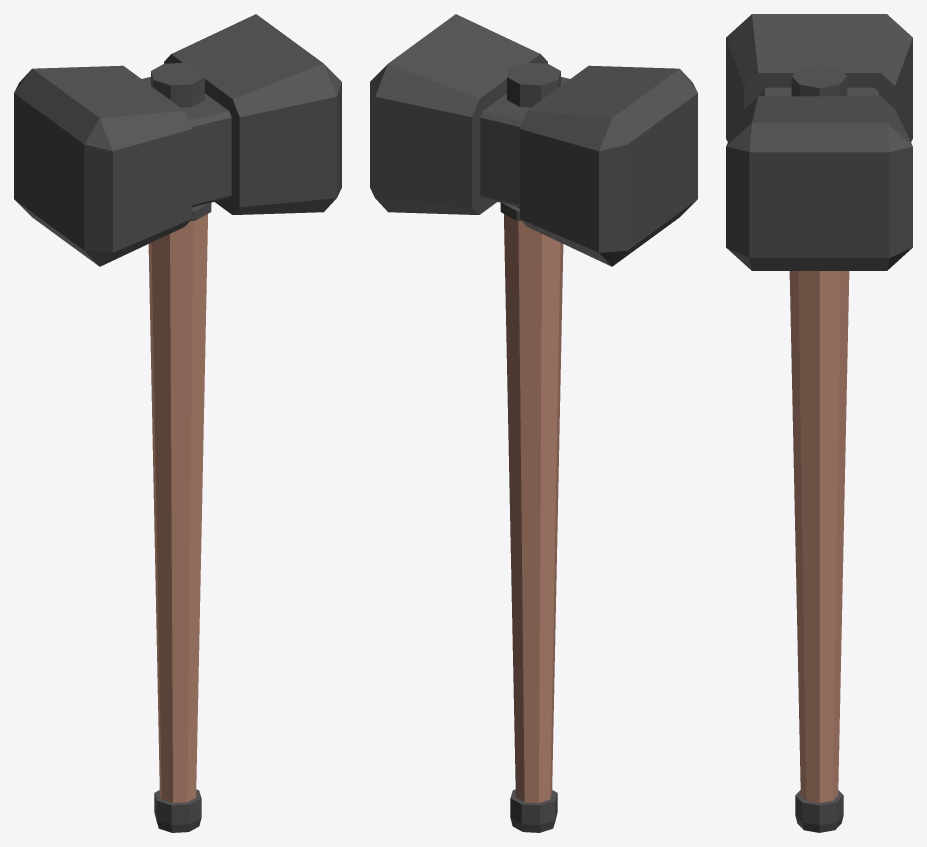
File: hammer3.glb
The picture shows the model from 3 angles, left to right: view 1: azimuth 30°, elevation 25°; view 2: azimuth 150°, elevation 25°; view 3: azimuth 270°, elevation 25°; orthographic projection.
Parts seen in each view (by area): view 1: Two-Handed Hammer; view 2: Two-Handed Hammer; view 3: Two-Handed Hammer.
Part boxes in pixels (x1=…): Two-Handed Hammer: x1=14, y1=14, x2=341, y2=832; Two-Handed Hammer: x1=370, y1=14, x2=697, y2=832; Two-Handed Hammer: x1=726, y1=14, x2=912, y2=832.
Size of the model in its own units: 0.6137 by 1.73 by 0.387.
